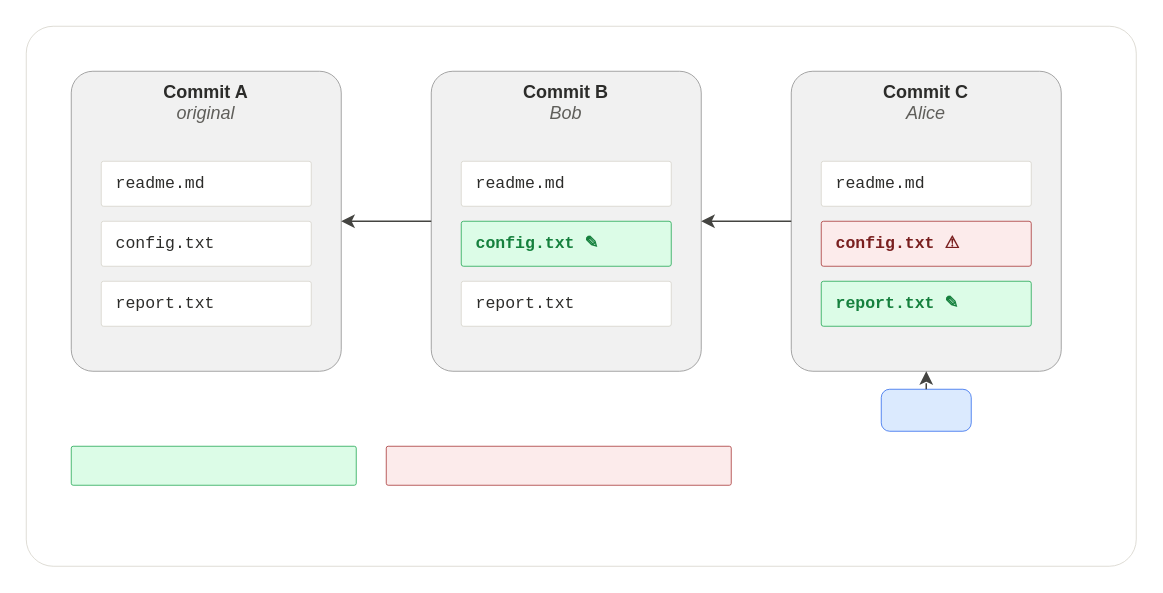
This 1163x593 diagram has some shape labels left out. The centre of each missing label's shape, as x and y in pixels:
main: the point at 925,409
⚠ Bob's change silently reverted: the point at 558,465
✎ changed in this commit: the point at 213,465
